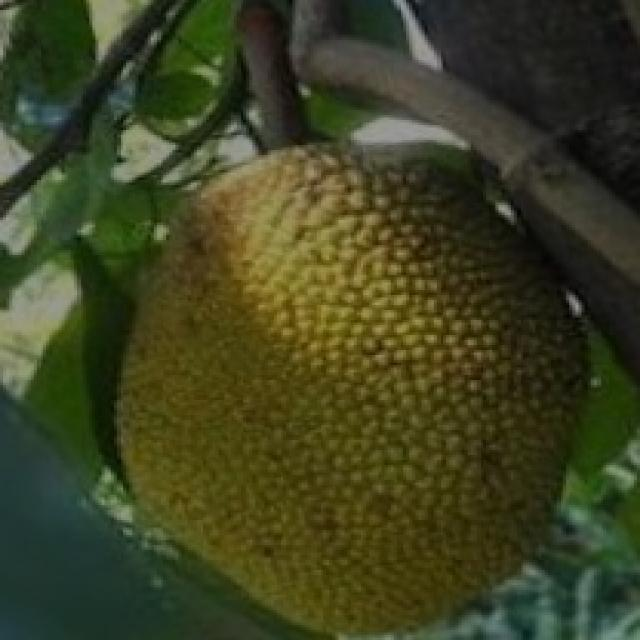Fruit: (258, 255, 628, 640)
